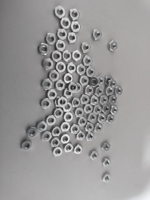nut: (54, 5, 66, 18), (69, 9, 81, 21), (48, 70, 60, 82), (40, 98, 52, 110), (55, 39, 66, 51), (36, 121, 48, 132), (38, 44, 50, 55), (66, 62, 77, 74), (55, 79, 66, 91), (68, 32, 78, 45), (26, 127, 39, 137), (60, 18, 71, 29), (57, 29, 68, 40), (21, 140, 32, 151), (42, 59, 53, 70), (41, 79, 52, 90), (41, 131, 52, 142), (49, 137, 60, 148), (75, 131, 86, 142), (92, 29, 102, 41), (71, 21, 81, 33), (81, 42, 91, 54), (46, 33, 56, 45), (62, 50, 72, 62), (72, 50, 82, 62), (58, 96, 68, 108), (46, 90, 58, 100), (108, 41, 118, 52), (101, 141, 111, 152), (102, 157, 112, 168), (90, 150, 100, 161), (64, 73, 74, 84), (52, 147, 63, 157), (70, 124, 80, 135), (56, 62, 66, 73), (51, 51, 62, 61), (76, 64, 86, 75), (64, 88, 74, 99), (73, 82, 83, 93), (46, 115, 56, 126), (63, 112, 73, 123), (60, 123, 71, 133), (85, 132, 95, 143), (102, 173, 112, 183), (83, 56, 93, 66), (52, 127, 62, 137), (80, 95, 90, 105), (61, 134, 71, 144), (86, 67, 96, 77), (74, 108, 84, 118), (79, 76, 89, 86), (71, 98, 81, 108), (62, 103, 72, 113), (93, 105, 103, 115), (94, 122, 103, 133), (55, 97, 64, 108), (106, 114, 115, 125), (78, 116, 87, 127), (74, 145, 83, 155), (85, 85, 94, 95), (54, 108, 63, 118), (88, 113, 97, 123), (97, 114, 107, 123), (65, 143, 73, 154), (97, 76, 105, 87), (95, 87, 104, 96), (84, 105, 93, 114), (90, 77, 99, 86), (109, 95, 118, 104), (106, 87, 115, 96), (108, 80, 117, 89), (105, 76, 114, 85), (85, 123, 94, 132), (115, 86, 123, 96), (100, 95, 108, 105), (70, 82, 78, 92), (91, 95, 99, 105), (111, 106, 119, 115), (103, 105, 111, 113)
